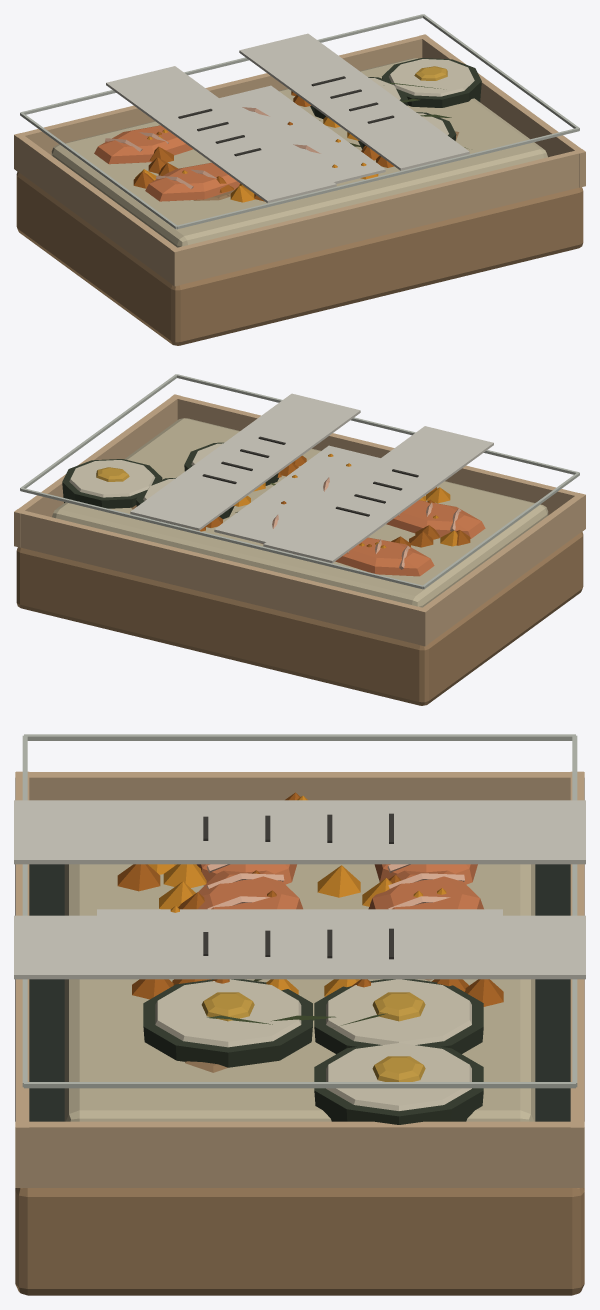
File: bento.glb
The picture shows the model from 3 angles, top to bottom: view 1: azimuth 30°, elevation 25°; view 2: azimuth 150°, elevation 25°; view 3: azimuth 270°, elevation 25°; orthographic projection. The views are drawn at different scales.
Parts seen in each view (by area): view 1: MarketPackAbalone, MarketPackIkura, MarketPackNigiri, MarketPackSeaweed; view 2: MarketPackAbalone, MarketPackIkura, MarketPackNigiri, MarketPackSeaweed; view 3: MarketPackAbalone, MarketPackIkura, MarketPackNigiri, MarketPackSeaweed.
Boxes of the visible parts, x1,y1,x2,y2 form: MarketPackAbalone: (14, 14, 585, 345); MarketPackIkura: (51, 33, 547, 247); MarketPackNigiri: (94, 58, 481, 201); MarketPackSeaweed: (219, 85, 385, 183); MarketPackAbalone: (14, 374, 585, 705); MarketPackIkura: (52, 393, 548, 607); MarketPackNigiri: (62, 442, 485, 576); MarketPackSeaweed: (214, 445, 380, 543); MarketPackAbalone: (14, 734, 585, 1295); MarketPackIkura: (14, 792, 585, 1121); MarketPackNigiri: (143, 864, 483, 1124); MarketPackSeaweed: (97, 909, 502, 980).
Size of the model in its own units: 0.34 by 0.101 by 0.231.
